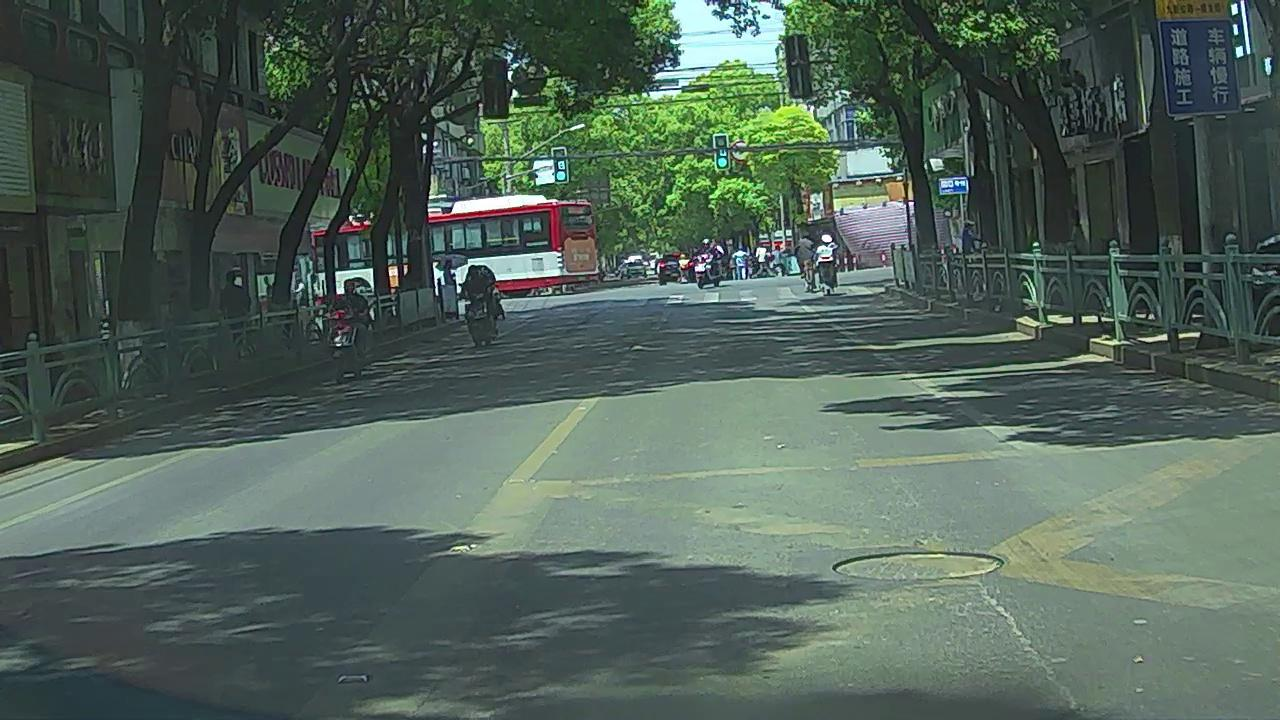traffic_light: (553, 148, 568, 182), (715, 134, 729, 169)
